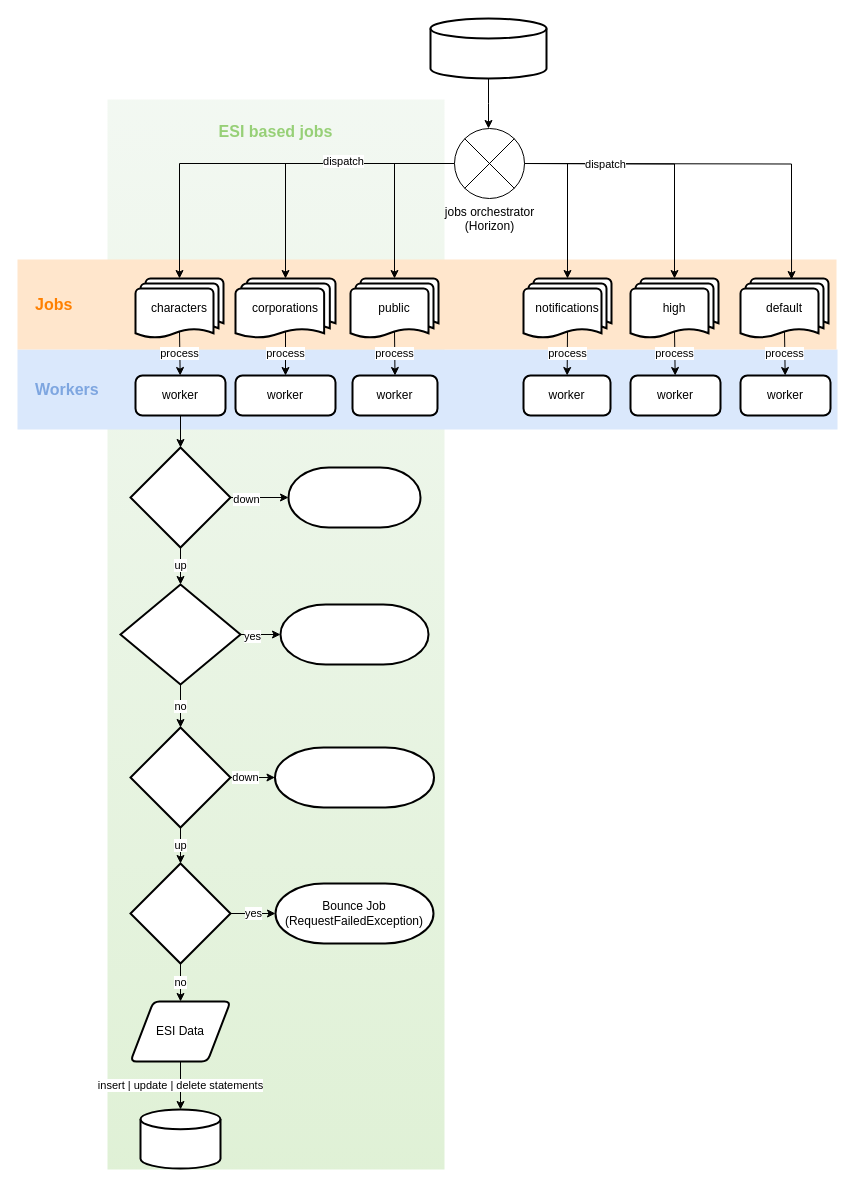
The diagram is 854 pixels wide and 1186 high, and some of its shapes have lost their labels. Each missing label, with the centre of its shape:
"Bounce Job (EsiDownException)" belongs at pixel 354 497.
"Bounce Job (EsiRateLimitException)" belongs at pixel 354 634.
"Bounce Job (EveServerDownException)" belongs at pixel 354 777.
"Data Store (mariadb)" belongs at pixel 180 1138.
"ESI Error ?" belongs at pixel 180 913.
"ESI Rate Limit Reached ?" belongs at pixel 180 634.
"ESI Status ?" belongs at pixel 180 497.
"EVE Server Status ?" belongs at pixel 180 777.
"Job store (Redis)" belongs at pixel 488 48.
